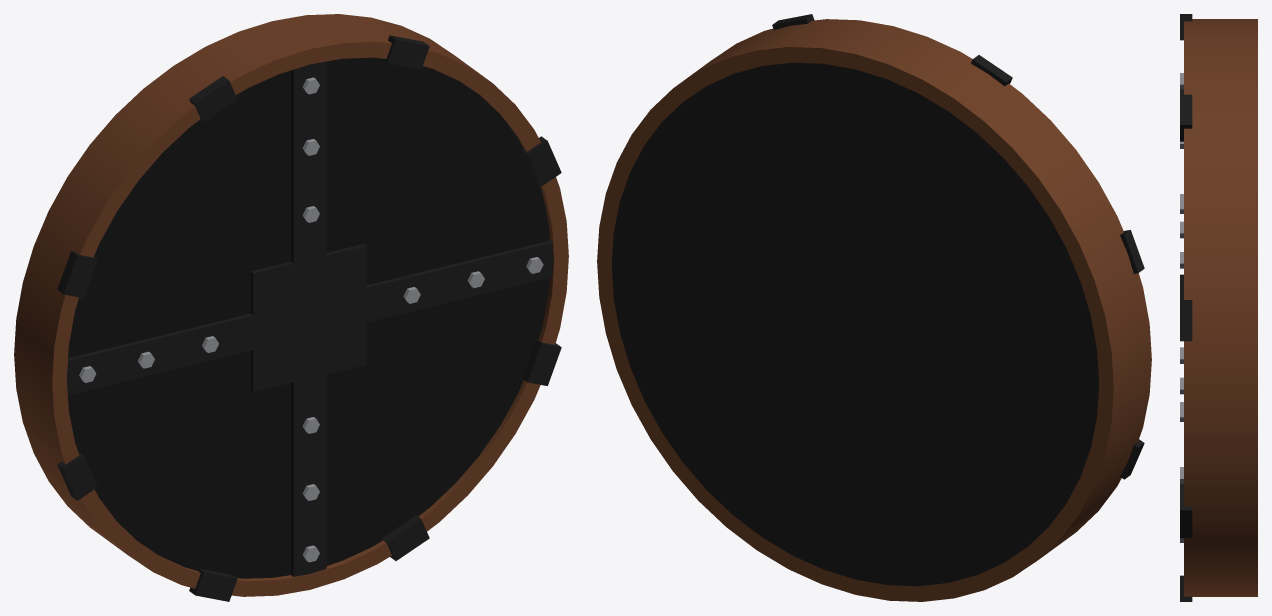
Rendered from engine_hot_emitter_annulus.obj.
3 renders of one model, left to right at view 1: azimuth 30°, elevation 25°; view 2: azimuth 150°, elevation 25°; view 3: azimuth 270°, elevation 25°, orthographic. The views are drawn at different scales.
Parts seen in each view (by area): view 1: engine_hot_emitter_annulus; view 2: engine_hot_emitter_annulus; view 3: engine_hot_emitter_annulus.
Boxes of the visible parts, x1,y1,x2,y2 form: engine_hot_emitter_annulus: (14, 14, 568, 601); engine_hot_emitter_annulus: (597, 14, 1151, 601); engine_hot_emitter_annulus: (1180, 14, 1257, 601).
Bounding box in the file's own units: 2.82 × 2.82 × 0.38.
